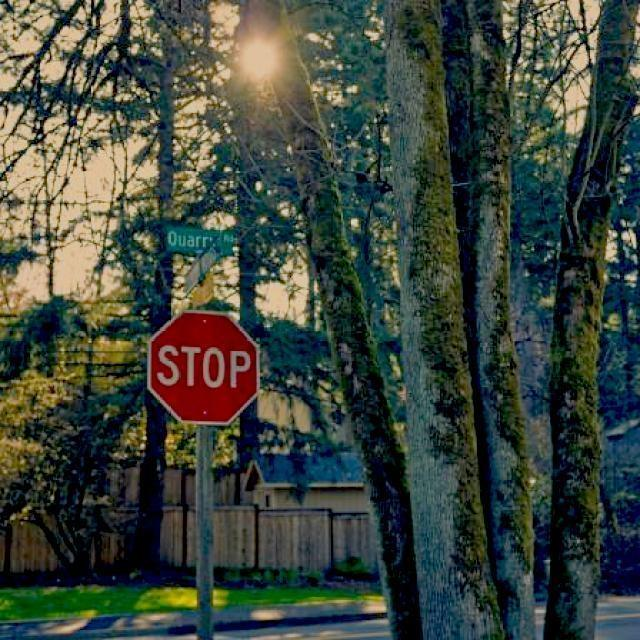Stop-Sign: (148, 311, 261, 424)
